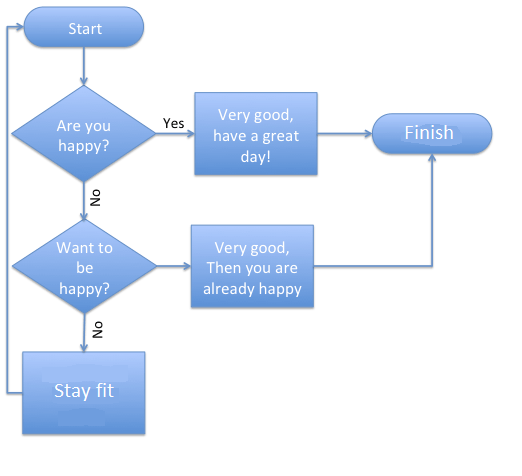arrow: (310, 152, 438, 272), (2, 19, 29, 398), (317, 126, 376, 141), (153, 125, 195, 141), (77, 311, 92, 352), (153, 260, 191, 272), (78, 46, 89, 86), (79, 182, 89, 221)
decision: (6, 82, 160, 186), (10, 218, 161, 316)
process: (189, 89, 320, 180), (188, 222, 318, 312), (19, 349, 148, 437)
terminator: (369, 110, 496, 158), (22, 3, 146, 51)
text: (201, 238, 306, 300), (209, 104, 299, 168), (51, 240, 118, 297), (53, 118, 115, 155), (51, 382, 116, 402), (401, 122, 454, 141), (66, 19, 105, 36), (160, 113, 186, 131), (89, 186, 104, 211), (90, 319, 104, 342)
